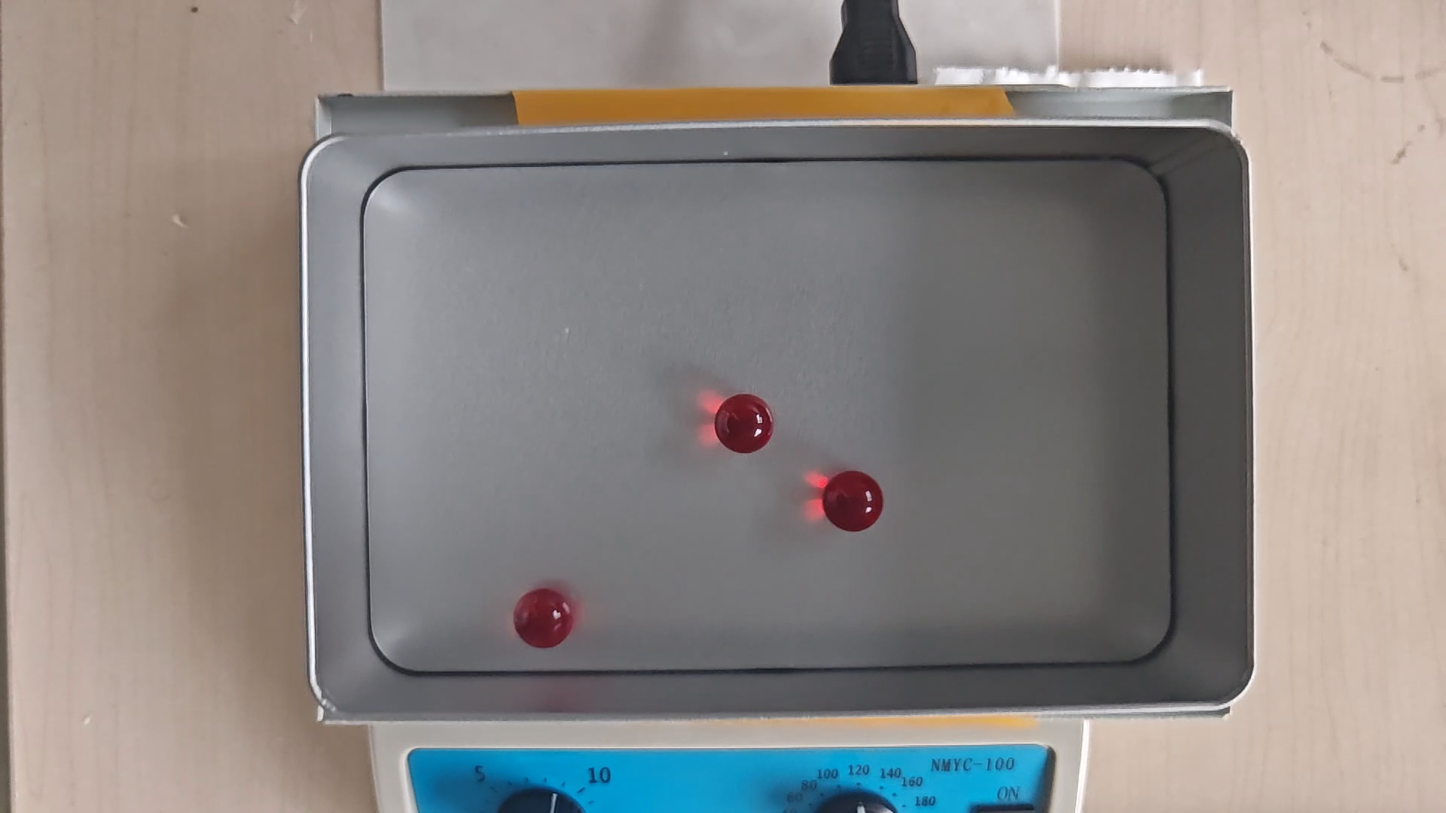ball: (513, 590, 577, 650), (823, 471, 883, 531), (716, 394, 773, 454)
container: (358, 161, 1176, 671)
